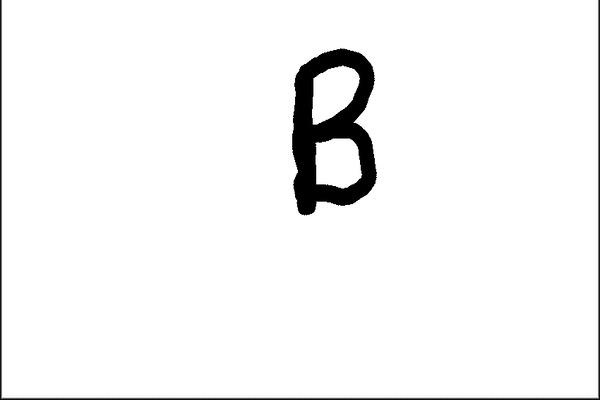B: (282, 44, 382, 219)
